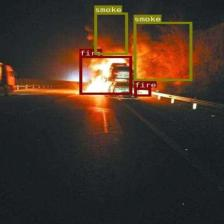fire: (80, 55, 132, 94), (134, 88, 150, 96)
smoke: (133, 22, 191, 80), (94, 12, 128, 54)
